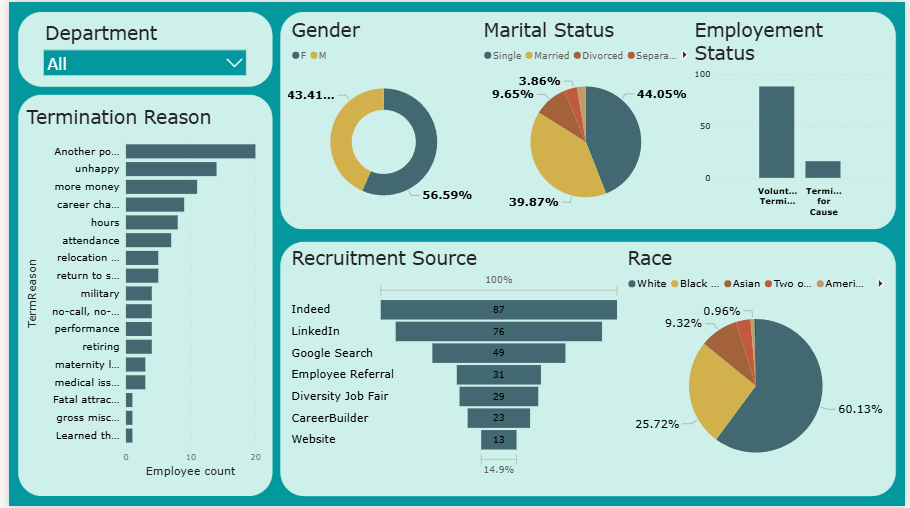

This screenshot's page, from the dashboard's own definition file:
{"tool":"powerbi","page":{"name":"Page 1","canvas":[1280,720],"ordinal":0},"visuals":[{"type":"slicer","fields":{"Values":["HRDataset.Department"]},"box":[38.5,23.1,310.8,81.5],"z":0},{"type":"donutChart","title":"Gender","fields":{"Category":["HRDataset.Sex"],"Y":["CountNonNull(HRDataset.EmpID)"]},"box":[398.9,23,273.6,292.3],"z":1000},{"type":"pieChart","title":"Marital Status","fields":{"Category":["HRDataset.MaritalDesc"],"Y":["CountNonNull(HRDataset.EmpID)"]},"box":[672.5,23,302.4,292.3],"z":2000},{"type":"clusteredColumnChart","title":"Employement Status","fields":{"Category":["HRDataset.EmploymentStatus"],"Y":["CountNonNull(HRDataset.EmpID)"]},"box":[974.9,23,280.8,292.3],"z":3000},{"type":"barChart","title":"Termination Reason","fields":{"Category":["HRDataset.TermReason"],"Y":["CountNonNull(HRDataset.EmpID)"]},"box":[20,146.7,345,536.7],"z":4000},{"type":"pieChart","title":"Race","fields":{"Category":["HRDataset.RaceDesc"],"Y":["CountNonNull(HRDataset.EmpID)"]},"box":[878.3,348.3,376.7,335],"z":5000},{"type":"funnel","title":"Recruitment Source","fields":{"Category":["HRDataset.RecruitmentSource"],"Y":["CountNonNull(HRDataset.EmpID)"]},"box":[398.3,348.3,480,335],"z":6000}]}

Visuals, with their boxes in screenshot pixels (x1, y1, x2, y2), scaled from the page's 1280x720 canvas onto the 910x508 screenshot:
slicer - HRDataset.Department: 27, 16, 248, 74
"Gender" donutChart: 284, 16, 478, 222
"Marital Status" pieChart: 478, 16, 693, 222
"Employement Status" clusteredColumnChart: 693, 16, 893, 222
"Termination Reason" barChart: 14, 104, 259, 482
"Race" pieChart: 624, 246, 892, 482
"Recruitment Source" funnel: 283, 246, 624, 482
